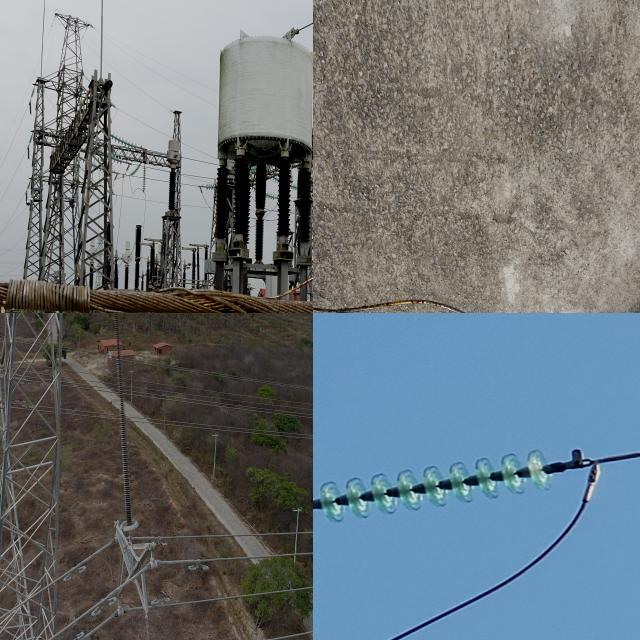杆塔: (0, 313, 66, 640)
正常电缆: (134, 395, 313, 420), (164, 582, 313, 612), (136, 386, 313, 411), (143, 420, 313, 440), (170, 525, 313, 544), (136, 390, 271, 410), (167, 548, 313, 566), (232, 626, 313, 640)
正常绝缘子: (313, 443, 582, 527), (108, 313, 141, 545)
电缆破损: (313, 48, 640, 294), (0, 242, 313, 313)
